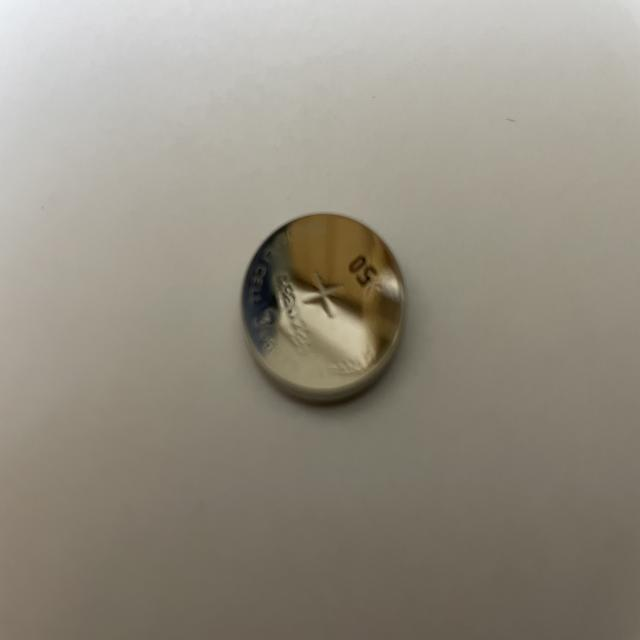COIN: (239, 212, 406, 408)
